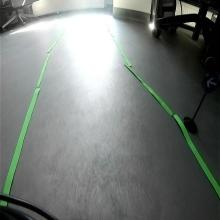left: (201, 70, 219, 93)
